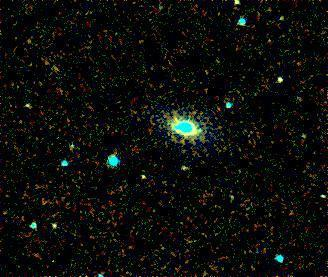star: (160, 117, 190, 147)
